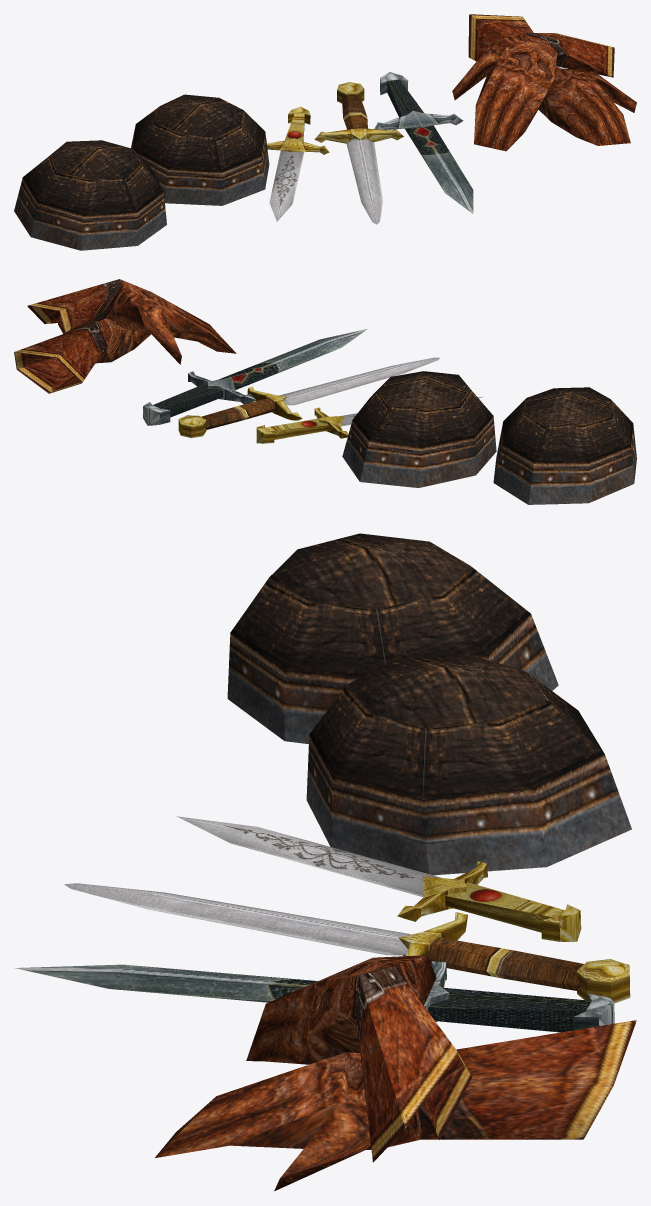
File: mm9_deco_shelfitem09.glb
The picture shows the model from 3 angles, top to bottom: view 1: azimuth 30°, elevation 25°; view 2: azimuth 150°, elevation 25°; view 3: azimuth 270°, elevation 25°; orthographic projection. The views are drawn at different scales.
Visible parts, largest first — view 1: Shelfitem09; view 2: Shelfitem09; view 3: Shelfitem09.
Part boxes in pixels (x1,y1,x2,y2): Shelfitem09: (14, 14, 636, 250); Shelfitem09: (14, 279, 636, 504); Shelfitem09: (15, 533, 636, 1191).
Bounding box in the file's own units: 1.13 × 0.1412 × 0.516.
2 materials, 2 textured.
